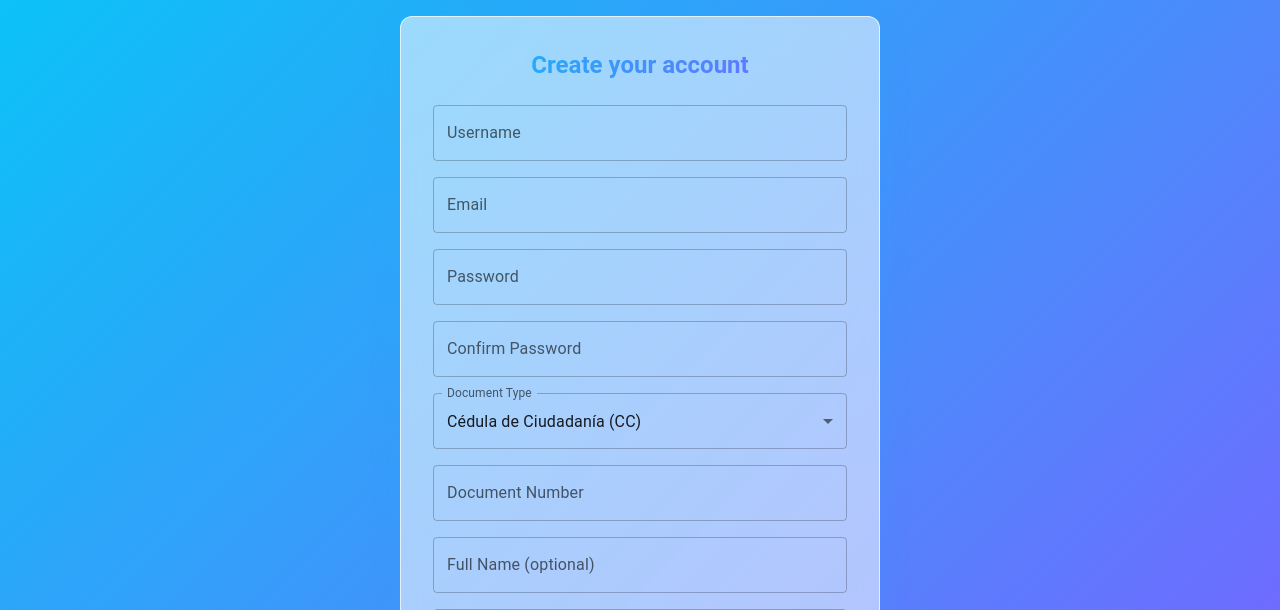
Test: Register › shows validation error when passwords do not match on blur
Type "password123" into the password field with test id "register-password" at x=640, y=277, box [433,249,847,305]
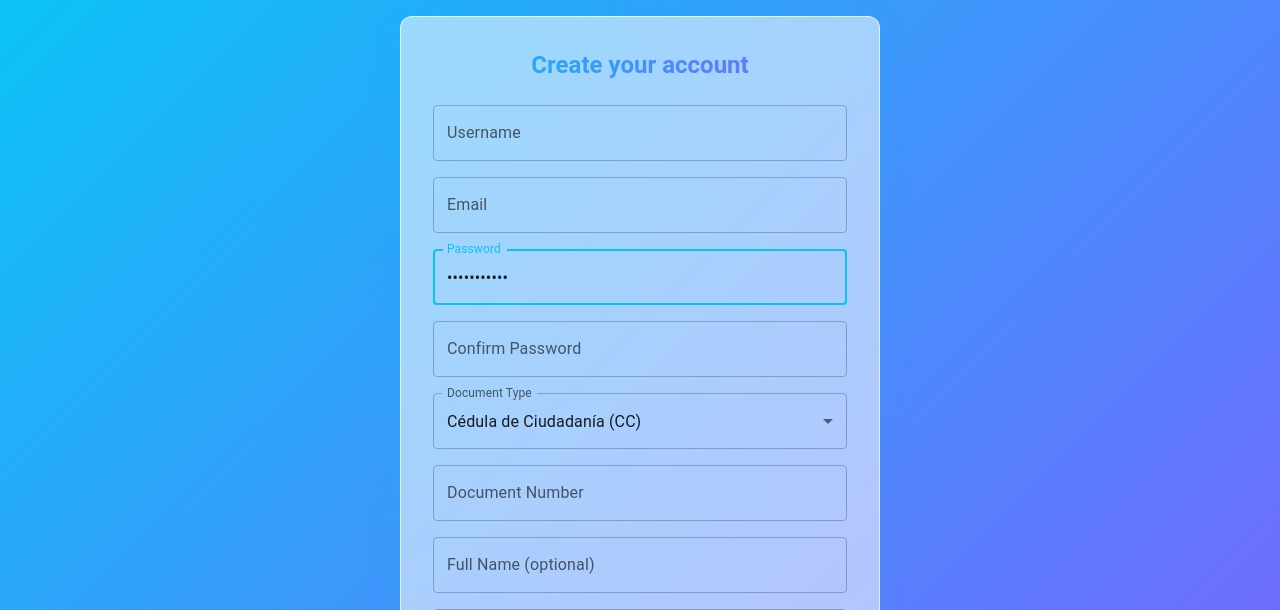
Type "different123" into the password field with test id "register-confirm-password" at x=640, y=349, box [433,321,847,377]
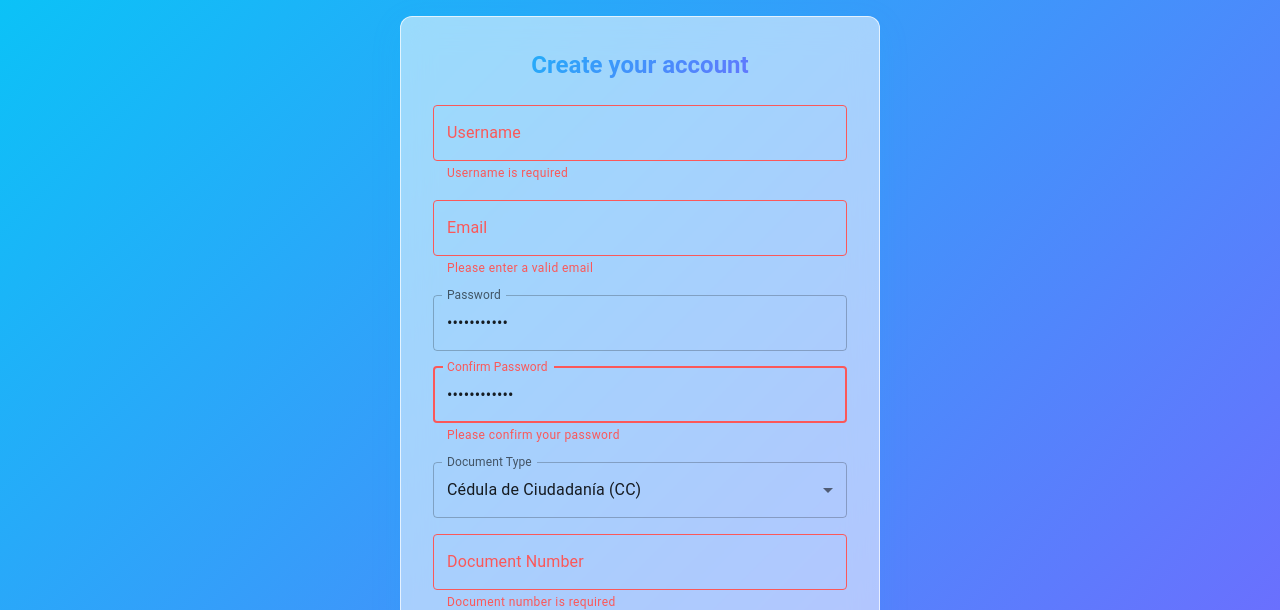
Press Tab
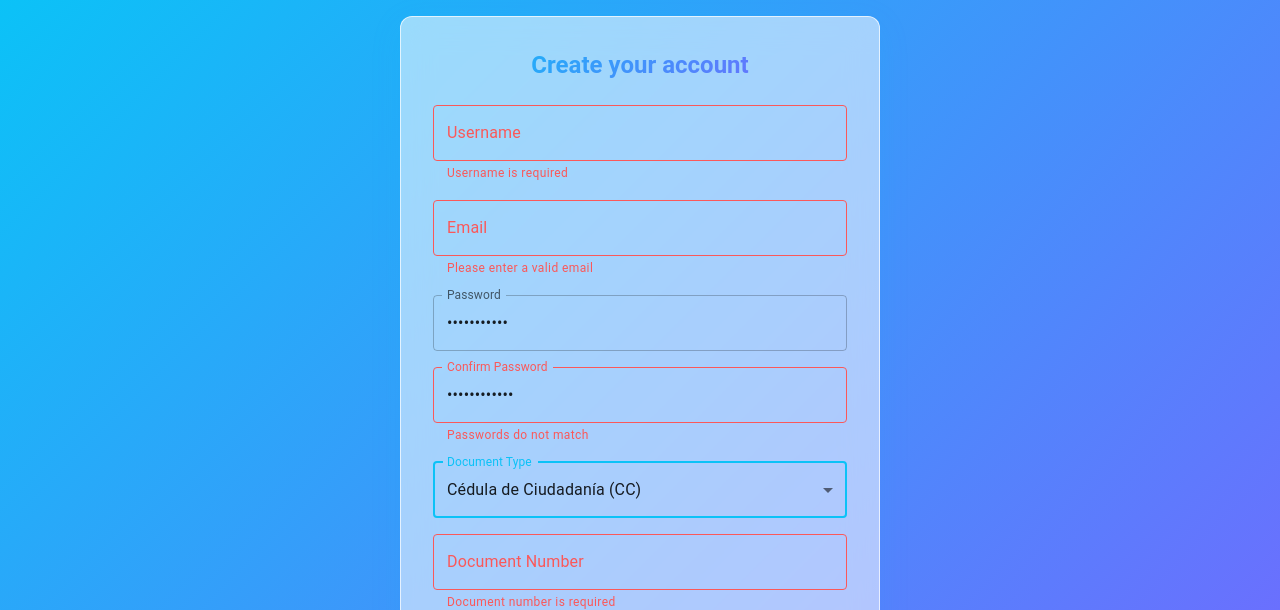
Check: the text with test id "register-confirm-password-error" reads "Passwords do not match", box [447,428,589,442]
